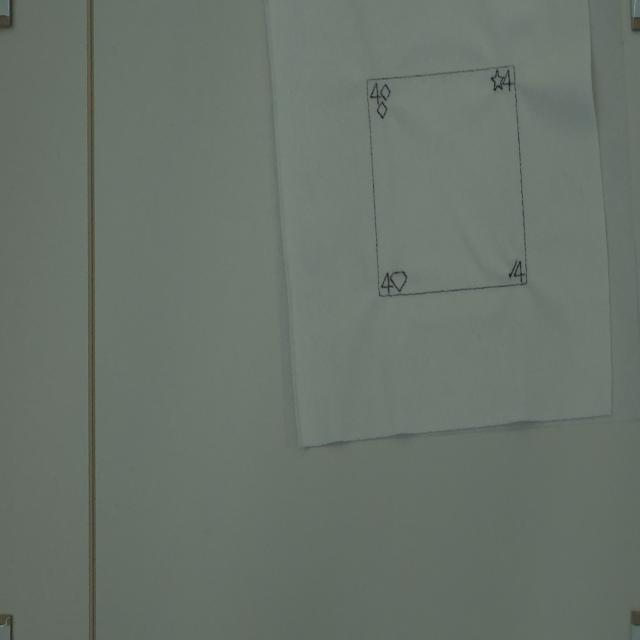4 -: (380, 267, 394, 296), (369, 78, 382, 105), (501, 68, 514, 94), (512, 260, 525, 282)
